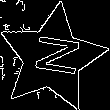N_W: (24, 34, 80, 82)
